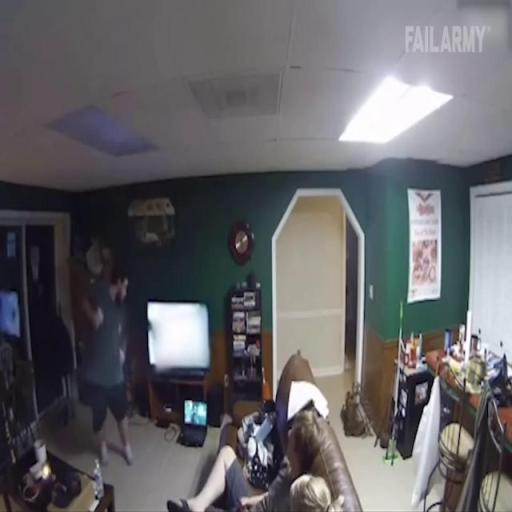Fall: (166, 389, 323, 512)
